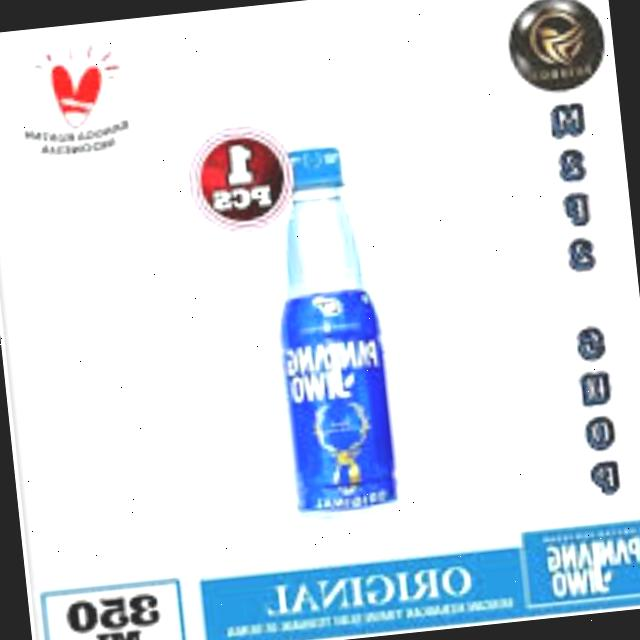trash: (250, 141, 410, 525)
